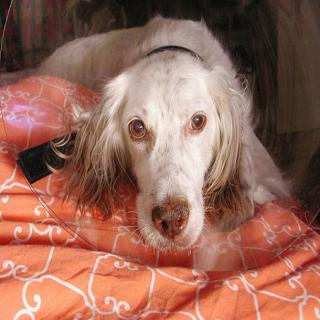dog: (68, 58, 251, 249)
nose: (144, 197, 197, 239)
